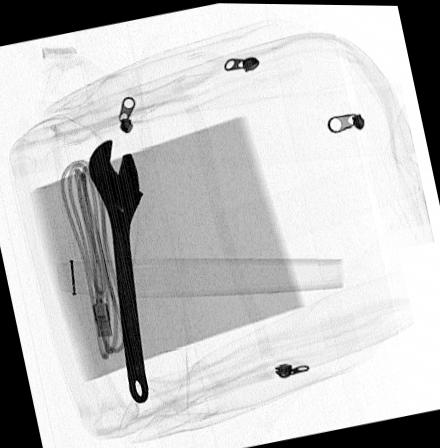Wrench: (84, 137, 149, 406)
